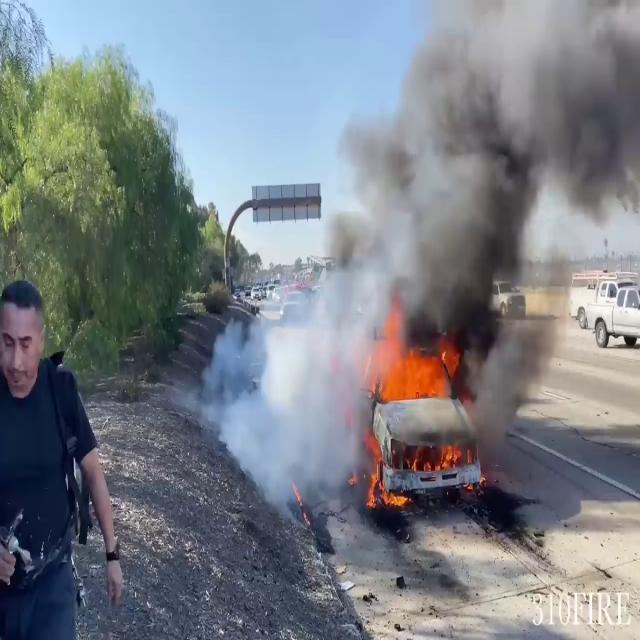Fire: (368, 320, 462, 404)
Smoke: (323, 0, 640, 370), (190, 250, 382, 510)
